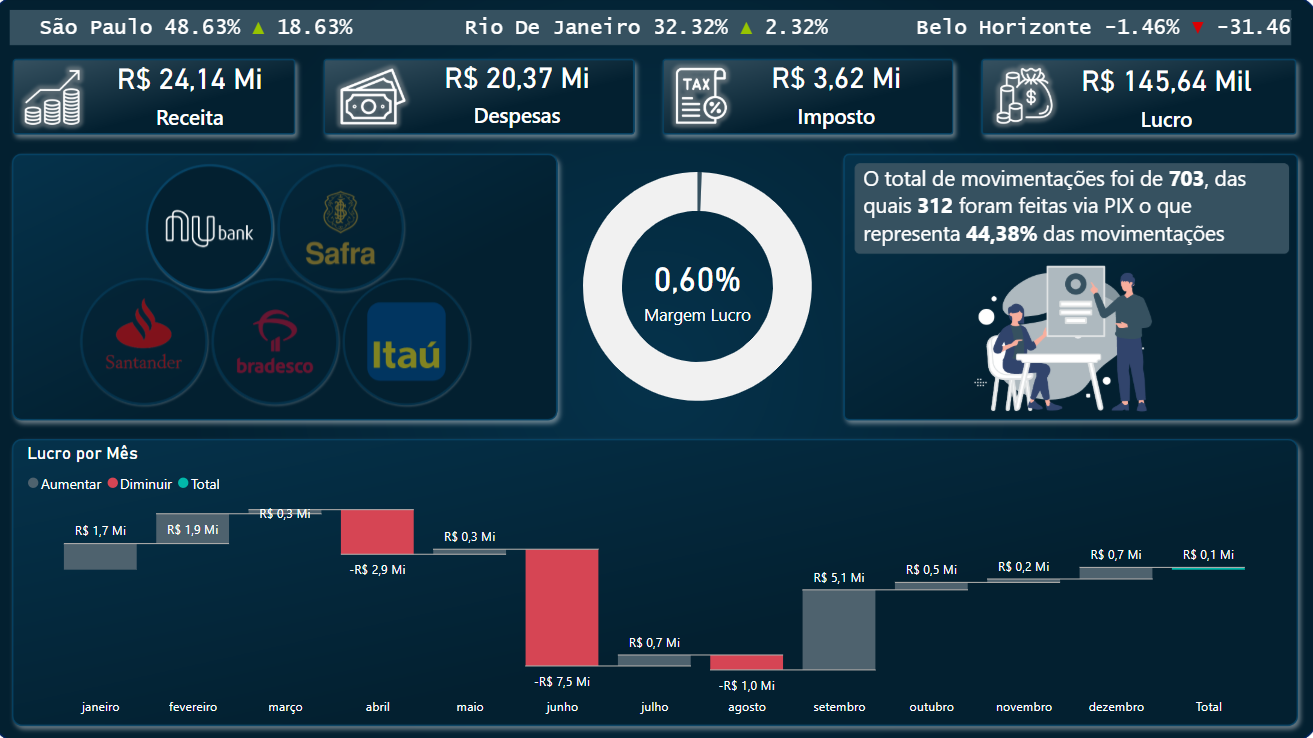

This screenshot's page, from the dashboard's own definition file:
{"tool":"powerbi","page":{"name":"Página 1","canvas":[1280,720],"ordinal":0},"visuals":[{"type":"card","fields":{"Values":["Movimentações.Receita"]},"box":[91,40,201,104],"z":0},{"type":"card","fields":{"Values":["Movimentações.Despesas"]},"box":[408,44,198,94],"z":1000},{"type":"card","fields":{"Values":["Movimentações.Imposto"]},"box":[713,48,204,86],"z":2000},{"type":"card","fields":{"Values":["Movimentações.Lucro"]},"box":[1018,51,231,86],"z":3000},{"type":"waterfallChart","fields":{"Y":["Movimentações.Lucro"],"Category":["Movimentações.Data da Movimentacao.Variation.Hierarquia de datas.Mês"]},"box":[29,431,1222,274],"z":4000},{"type":"card","fields":{"Values":["Movimentações.Margem"]},"box":[602,237,158,90],"z":5000},{"type":"donutChart","fields":{"Y":["Movimentações.Margem","Movimentações.Complemento Margem"]},"box":[496,137,370.4,286],"z":6000},{"type":"ImageGrid_FC5183B9_926C_45E0_B5F7_0CE9EAF1DA9B","fields":{"ImageURLHQ":["Movimentações.Imagem"]},"box":[0,73,549,413],"z":7000},{"type":"enlightenDataStoryDDFB78A6143E42CFAFBC50CCF18D978D","fields":{"measure":["Movimentações.QtdMovimentaçoes","Movimentações.MovimentacoesPix","Movimentações.PercentualPix"]},"box":[836,157,399,97],"z":8000},{"type":"ScrollingTextVisual1448795304508","fields":{"Measure Absolute":["Movimentações.Margem"],"Category":["Movimentações.Município"],"Measure Deviation":["Movimentações.Desvio"]},"box":[12,9,1247,44],"z":9000}]}

Visuals, with their boxes in screenshot pixels (x1, y1, x2, y2), scaled from the page's 1280x720 canvas onto the 1313x738 screenshot:
card - Movimentações.Receita: 93/41/300/148
card - Movimentações.Despesas: 419/45/622/141
card - Movimentações.Imposto: 731/49/941/137
card - Movimentações.Lucro: 1044/52/1281/140
waterfallChart - Movimentações.Lucro x Movimentações.Data da Movimentacao.Variation.Hierarquia de datas.Mês: 30/442/1283/723
card - Movimentações.Margem: 618/243/780/335
donutChart - Movimentações.Margem x Movimentações.Complemento Margem: 509/140/889/434
ImageGrid_FC5183B9_926C_45E0_B5F7_0CE9EAF1DA9B - Movimentações.Imagem: 0/75/563/498
enlightenDataStoryDDFB78A6143E42CFAFBC50CCF18D978D - Movimentações.QtdMovimentaçoes x Movimentações.MovimentacoesPix: 858/161/1267/260
ScrollingTextVisual1448795304508 - Movimentações.Margem x Movimentações.Município: 12/9/1291/54
